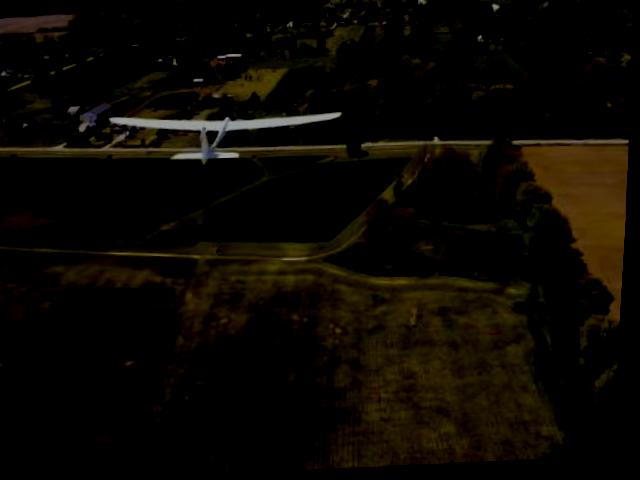uav: (96, 88, 351, 174)
